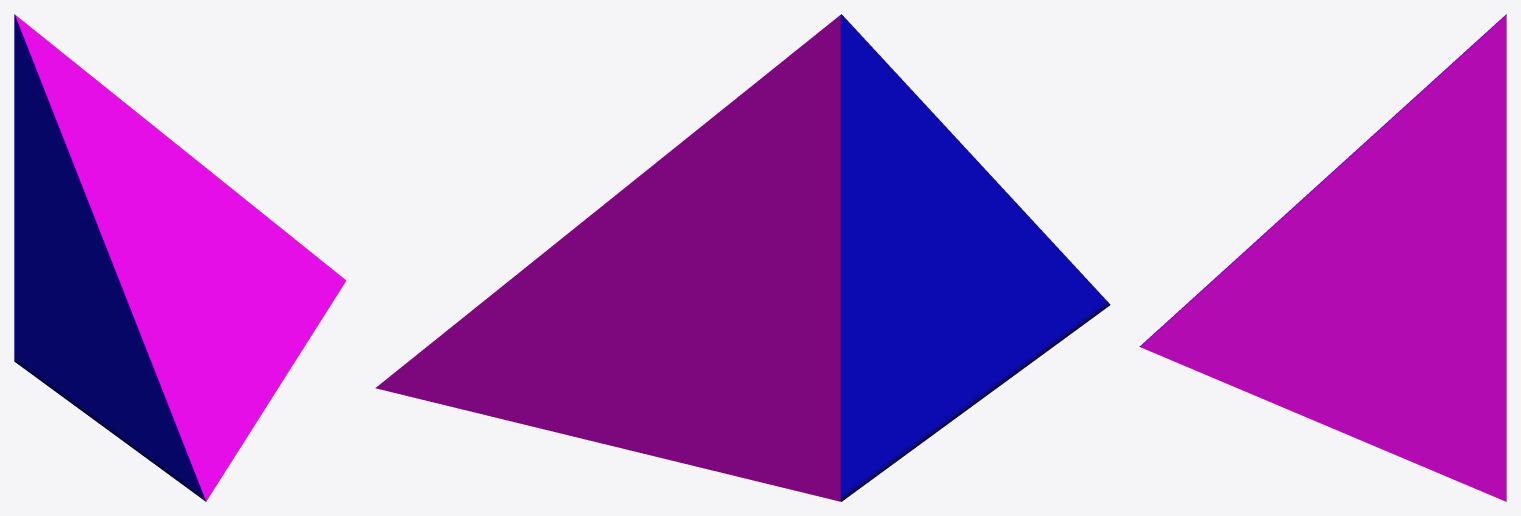
File: tetra-glb2.0.glb
3 renders of one model, left to right at view 1: azimuth 30°, elevation 25°; view 2: azimuth 150°, elevation 25°; view 3: azimuth 270°, elevation 25°, orthographic. The views are drawn at different scales.
Parts seen in each view (by area): view 1: /tetra.r; view 2: /tetra.r; view 3: /tetra.r.
Part boxes in pixels (x1,y1,x2,y2): /tetra.r: (14,14,346,501); /tetra.r: (375,14,1110,501); /tetra.r: (1139,14,1506,501).
Bounding box in the file's own units: 1 × 1 × 1.
